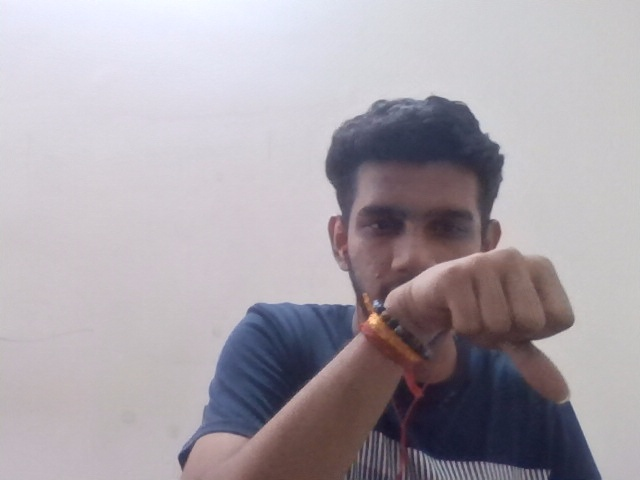yes: (417, 253, 627, 423)
